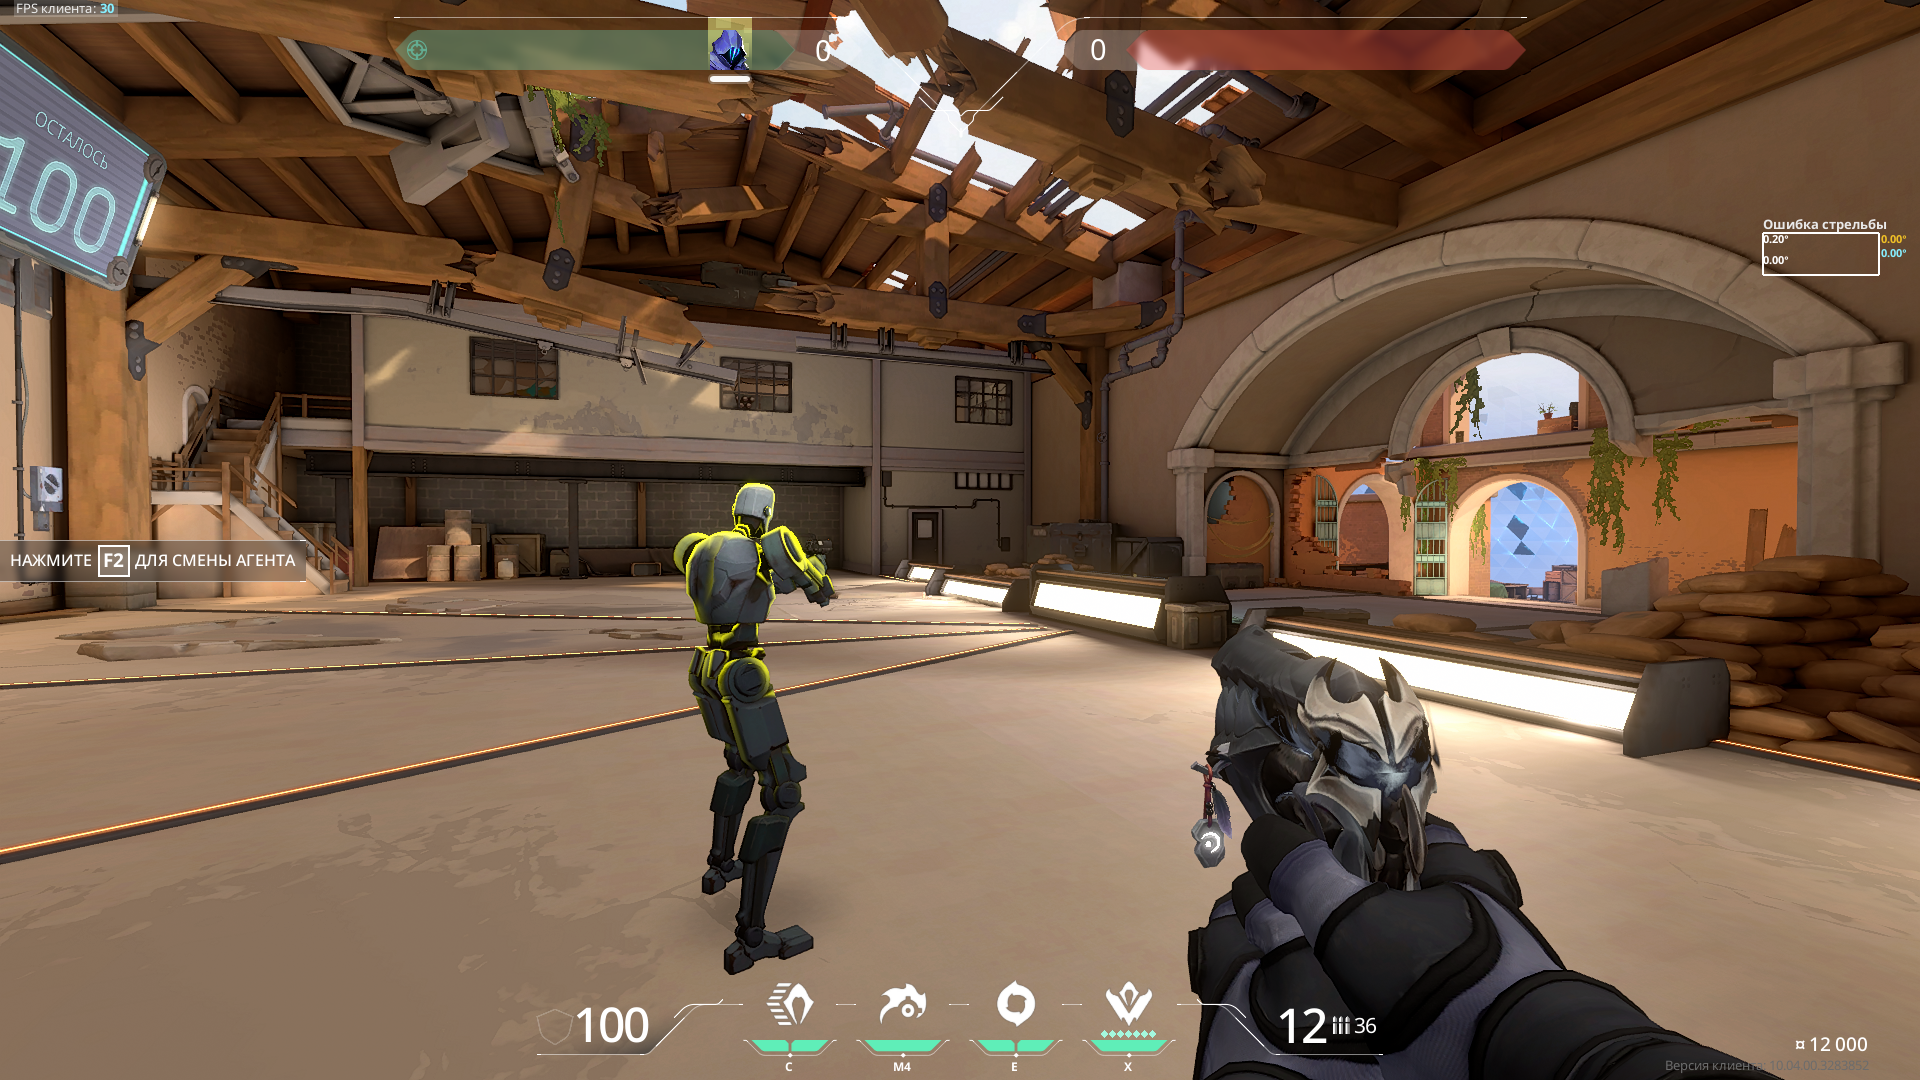head: (732, 484, 775, 539)
